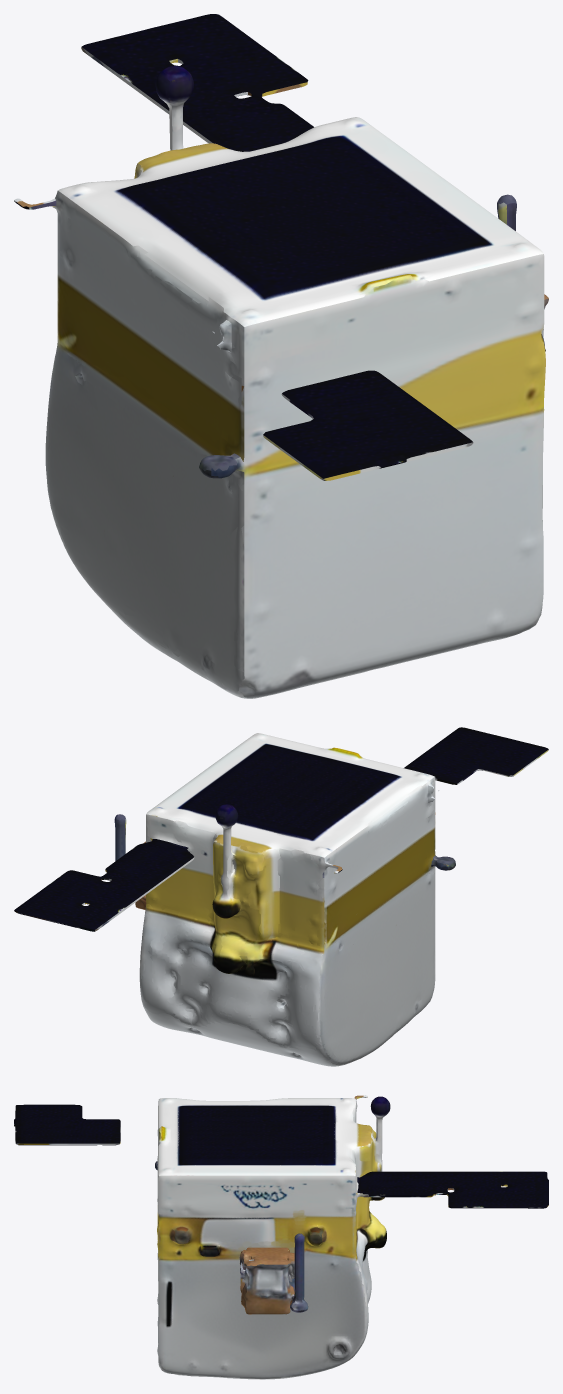
The model's file is fam_oneweb.glb.
3 views of the same model, one above another, from view 1: azimuth 30°, elevation 25°; view 2: azimuth 150°, elevation 25°; view 3: azimuth 270°, elevation 25° (orthographic). The views are drawn at different scales.
Parts seen in each view (by area): view 1: tmp3b5syh9p.ply; view 2: tmp3b5syh9p.ply; view 3: tmp3b5syh9p.ply.
Boxes of the visible parts, left/top/right/bottom form: tmp3b5syh9p.ply: left=14, top=14, right=548, bottom=698; tmp3b5syh9p.ply: left=14, top=727, right=548, bottom=1066; tmp3b5syh9p.ply: left=14, top=1095, right=548, bottom=1379.
Size of the model in its own units: 0.532 by 0.4995 by 0.9897.
1 material, 1 textured.
